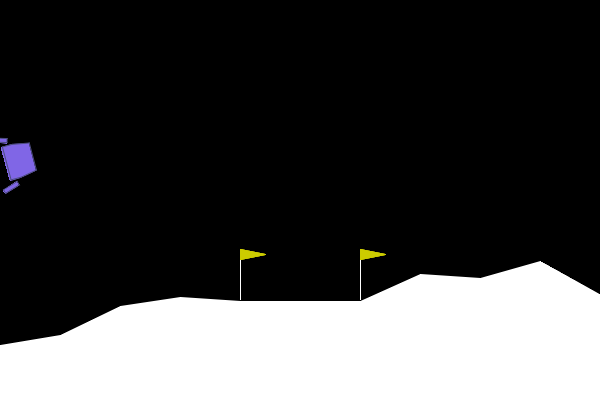lander: (0, 127, 42, 196)
